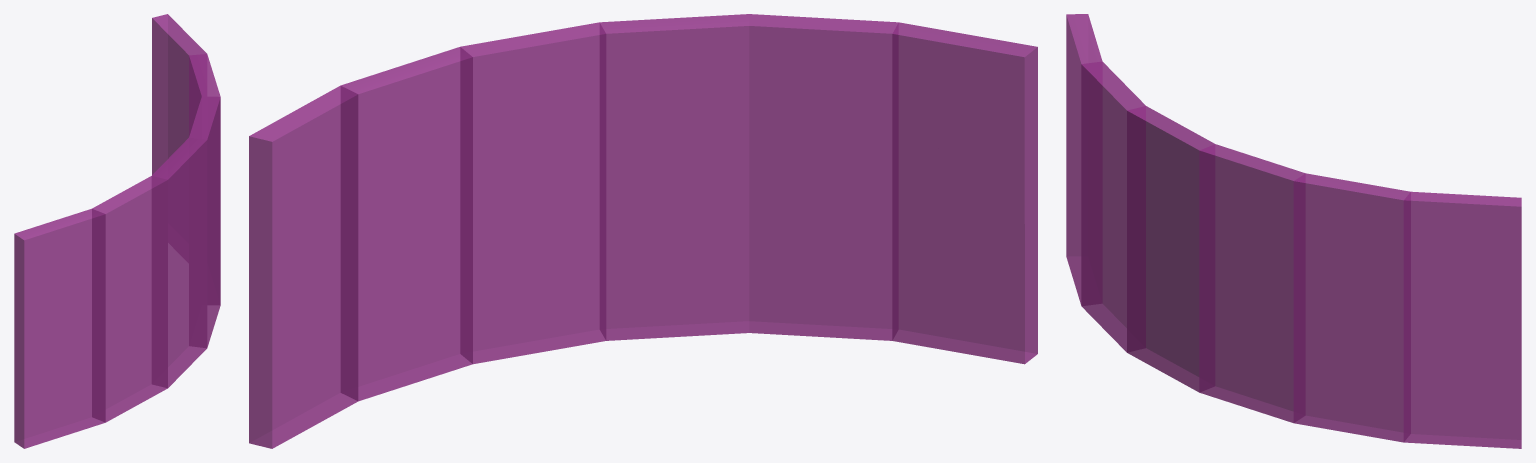
Rendered from SM_Bld_Wall_Curved_Large_01_Collision.fbx.
3 views of the same model, side by side, from view 1: azimuth 30°, elevation 25°; view 2: azimuth 150°, elevation 25°; view 3: azimuth 270°, elevation 25° (orthographic). The views are drawn at different scales.
Parts seen in each view (by area): view 1: SM_Bld_Wall_Curved_Large_01_Collision; view 2: SM_Bld_Wall_Curved_Large_01_Collision; view 3: SM_Bld_Wall_Curved_Large_01_Collision.
Part boxes in pixels (box(x1,y1,x2,y2)): SM_Bld_Wall_Curved_Large_01_Collision: box(14, 14, 220, 448); SM_Bld_Wall_Curved_Large_01_Collision: box(249, 14, 1037, 448); SM_Bld_Wall_Curved_Large_01_Collision: box(1066, 14, 1521, 448).
Size of the model in its own units: 515 by 302 by 514.
